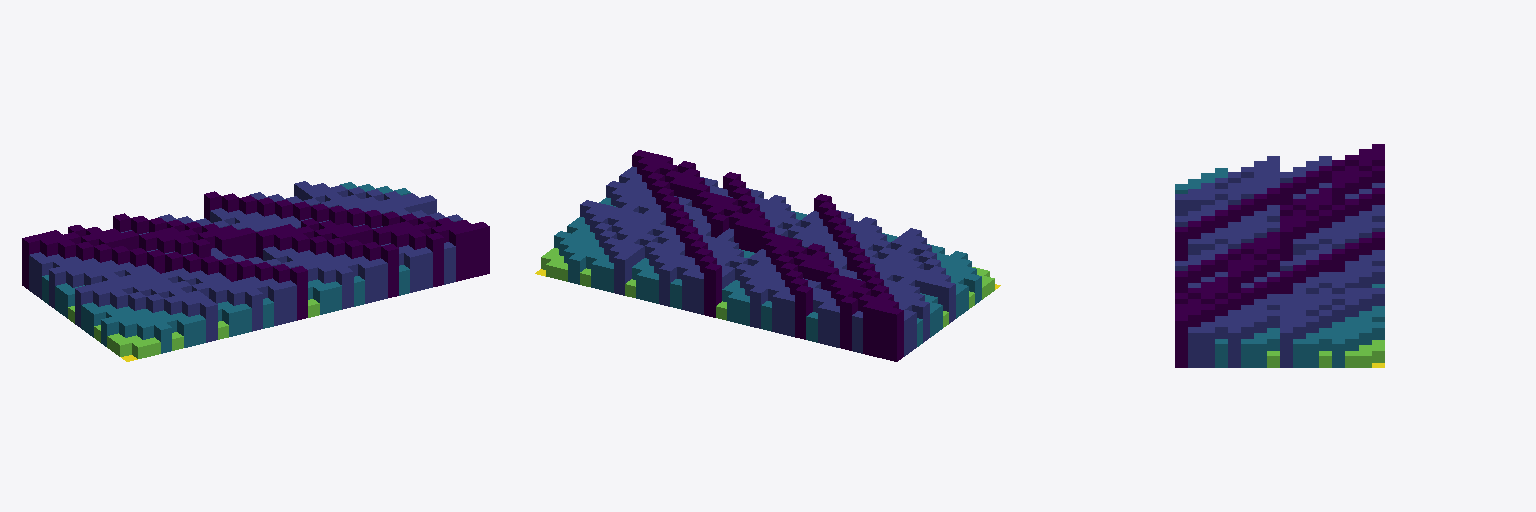
The picture shows the model from 3 angles: view 1: azimuth 30°, elevation 25°; view 2: azimuth 150°, elevation 25°; view 3: azimuth 270°, elevation 25°; orthographic projection.
Parts seen in each view (by area): view 1: Object(24,16)[length_4], Object(28,16)[length_4], Object(16,16)[length_4], Object(30,16)[length_4], Object(32,16)[length_4], Object(31,16)[length_4], Object(8,16)[length_3], Object(14,16)[length_3], Object(26,16)[length_3], Object(20,16)[length_3], Object(12,16)[length_3], Object(22,16)[length_3] (+1 smaller); view 2: Object(1,1)[length_4], Object(17,1)[length_4], Object(9,1)[length_4], Object(5,1)[length_4], Object(2,1)[length_4], Object(25,1)[length_3], Object(3,1)[length_4], Object(1,9)[length_3], Object(13,1)[length_3], Object(21,1)[length_3]; view 3: Object(32,16)[length_4], Object(32,14)[length_3], Object(32,8)[length_3], Object(32,12)[length_3], Object(32,15)[length_3].
Boxes of the visible parts, <box> form: Object(24,16)[length_4]: <box>381,244,398,297</box>; Object(28,16)[length_4]: <box>426,233,443,286</box>; Object(16,16)[length_4]: <box>290,266,307,320</box>; Object(30,16)[length_4]: <box>449,227,466,281</box>; Object(32,16)[length_4]: <box>472,222,489,276</box>; Object(31,16)[length_4]: <box>461,224,477,278</box>; Object(8,16)[length_3]: <box>200,300,217,342</box>; Object(14,16)[length_3]: <box>268,283,285,325</box>; Object(26,16)[length_3]: <box>404,250,421,292</box>; Object(20,16)[length_3]: <box>336,267,353,309</box>; Object(12,16)[length_3]: <box>245,289,262,331</box>; Object(22,16)[length_3]: <box>358,261,375,303</box>; Object(1,1)[length_4]: <box>886,307,903,361</box>; Object(17,1)[length_4]: <box>704,263,721,317</box>; Object(9,1)[length_4]: <box>795,285,812,339</box>; Object(5,1)[length_4]: <box>840,296,857,350</box>; Object(2,1)[length_4]: <box>874,305,891,358</box>; Object(25,1)[length_3]: <box>614,253,631,295</box>; Object(3,1)[length_4]: <box>863,302,880,356</box>; Object(1,9)[length_3]: <box>938,281,955,323</box>; Object(13,1)[length_3]: <box>750,286,767,328</box>; Object(21,1)[length_3]: <box>659,264,676,306</box>; Object(32,16)[length_4]: <box>1175,315,1187,367</box>; Object(32,14)[length_3]: <box>1201,327,1214,367</box>; Object(32,8)[length_3]: <box>1280,327,1292,367</box>; Object(32,12)[length_3]: <box>1228,327,1240,367</box>; Object(32,15)[length_3]: <box>1188,327,1200,367</box>.
Size of the model in its own units: 32 by 4 by 16.